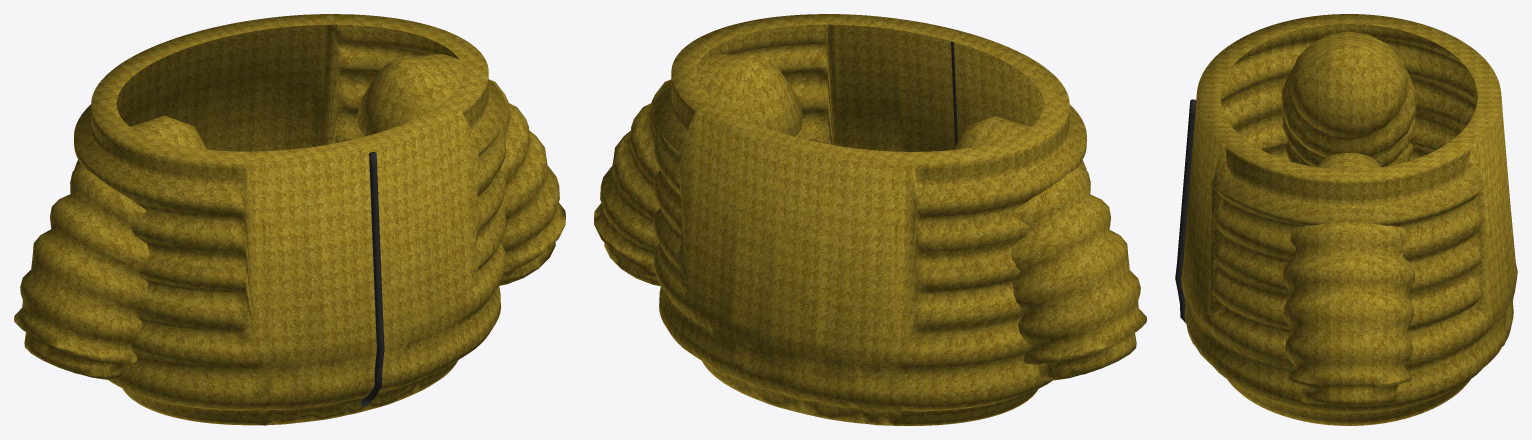
The model's file is puffer4.fbx.
The picture shows the model from 3 angles, left to right: view 1: azimuth 30°, elevation 25°; view 2: azimuth 150°, elevation 25°; view 3: azimuth 270°, elevation 25°; orthographic projection. The views are drawn at different scales.
Visible parts, largest first — view 1: puffer4; view 2: puffer4; view 3: puffer4.
Part boxes in pixels (left/top/right/bottom): puffer4: left=14, top=14, right=565, bottom=425; puffer4: left=594, top=14, right=1146, bottom=425; puffer4: left=1175, top=14, right=1517, bottom=425.
Size of the model in its own units: 1.31 by 0.6429 by 0.774.
2 materials, 1 textured.
